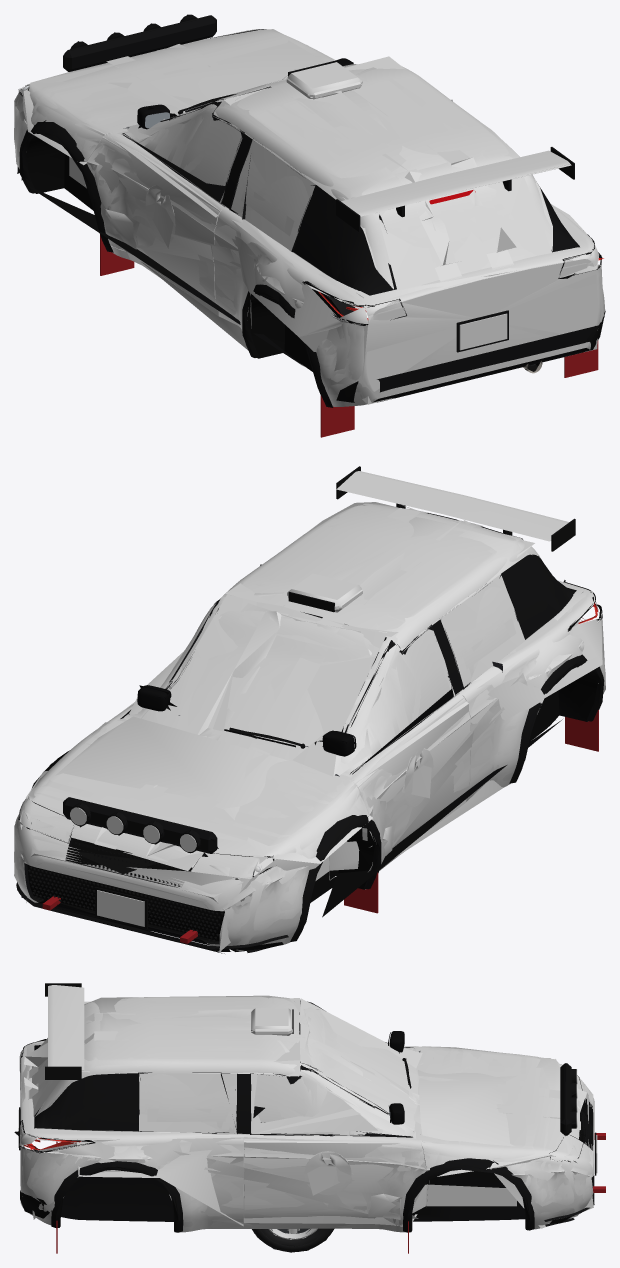
Rendered from rally.glb.
The picture shows the model from 3 angles, top to bottom: view 1: azimuth 30°, elevation 25°; view 2: azimuth 150°, elevation 25°; view 3: azimuth 270°, elevation 25°; orthographic projection. The views are drawn at different scales.
Parts seen in each view (by area): view 1: H_paint, H_details, L1_paint, L0_paint, H_paint2, L2_paint, L0_details, L2_glass, H_glass, L1_paint__dl, L0_paint2, L0_glass (+15 smaller); view 2: H_paint, H_details, L2_paint, L0_paint, H_paint2, L0_details, L1_paint, H_glass, L2_glass, L0_glass, L1_glass, L1_details (+15 smaller); view 3: H_paint, L0_details, L0_paint, H_details, L2_paint, H_paint2, L1_paint, H_glass, L1_paint__dr, L0_glass, L0_paint__dr, L2_glass (+21 smaller).
Boxes of the visible parts, x1,y1,x2,y2 form: H_paint: (14,30,604,406); H_details: (17,14,604,437); L1_paint: (14,29,604,399); L0_paint: (14,30,604,405); H_paint2: (70,47,571,282); L2_paint: (18,40,599,404); L0_details: (17,14,605,407); L2_glass: (127,116,552,290); H_glass: (123,65,528,274); L1_paint__dl: (87,131,224,303); L0_paint2: (69,44,569,282); L0_glass: (122,66,536,269); H_paint: (14,503,605,946); H_details: (16,466,604,951); L2_paint: (20,540,602,952); L0_paint: (15,504,605,946); H_paint2: (95,471,569,880); L0_details: (16,513,603,952); L1_paint: (14,502,605,951); H_glass: (124,587,513,773); L2_glass: (129,594,471,776); L0_glass: (124,587,516,774); L1_glass: (141,574,525,764); L1_details: (18,532,602,953); H_paint: (20,997,594,1232); L0_details: (20,1001,594,1230); L0_paint: (20,996,594,1231); H_details: (18,983,605,1253); L2_paint: (21,998,593,1228); H_paint2: (27,985,580,1206); L1_paint: (19,995,593,1228); H_glass: (32,1003,418,1135); L1_paint__dr: (244,1130,426,1225); L0_glass: (32,1008,418,1135); L0_paint__dr: (244,1135,426,1224); L2_glass: (32,998,422,1135).
Bounding box in the file's own units: 1.96 × 1.81 × 4.23.
